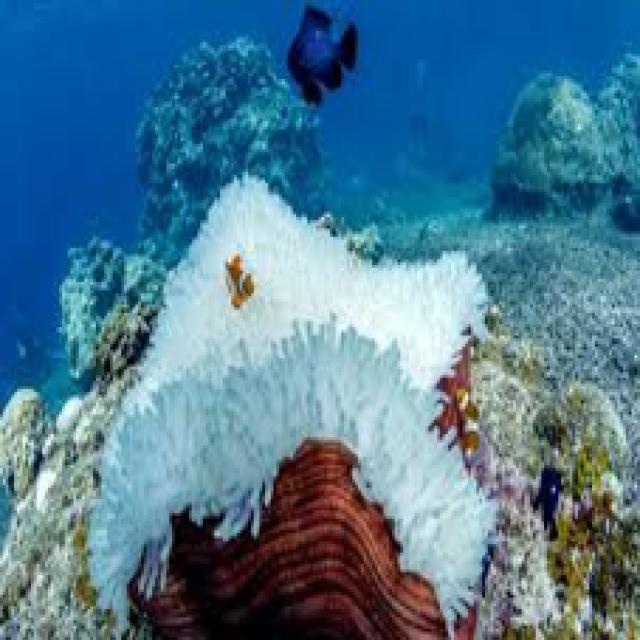Bleached: (91, 325, 492, 638), (139, 176, 486, 390)
